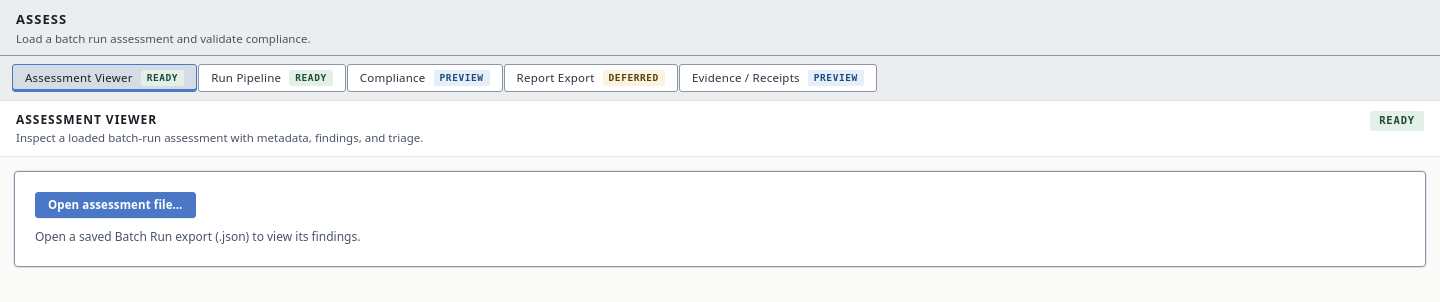
Test: AssessPanel › empty → click open → loader error → error view renders
The image size is (1440, 302).
Click the button "Open assessment file…" at x=115, y=205, box [35, 192, 196, 218]
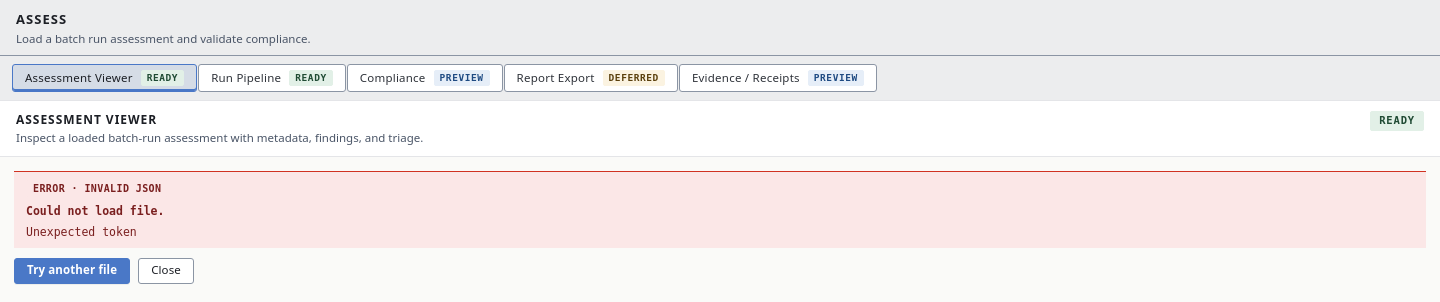
Result: the text "Could not load file." is shown at [26, 204, 164, 218]
Result: the text "Unexpected token" is shown at [26, 224, 137, 238]
